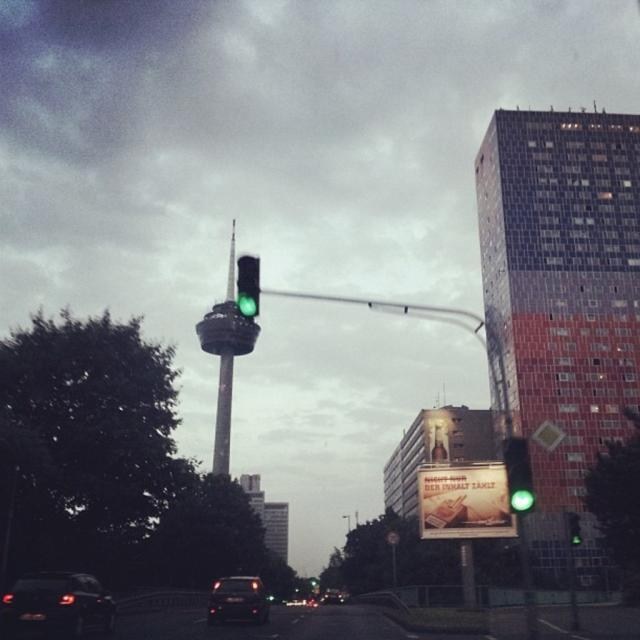traffic light: (504, 438, 535, 514), (238, 254, 260, 317), (568, 515, 581, 546)
